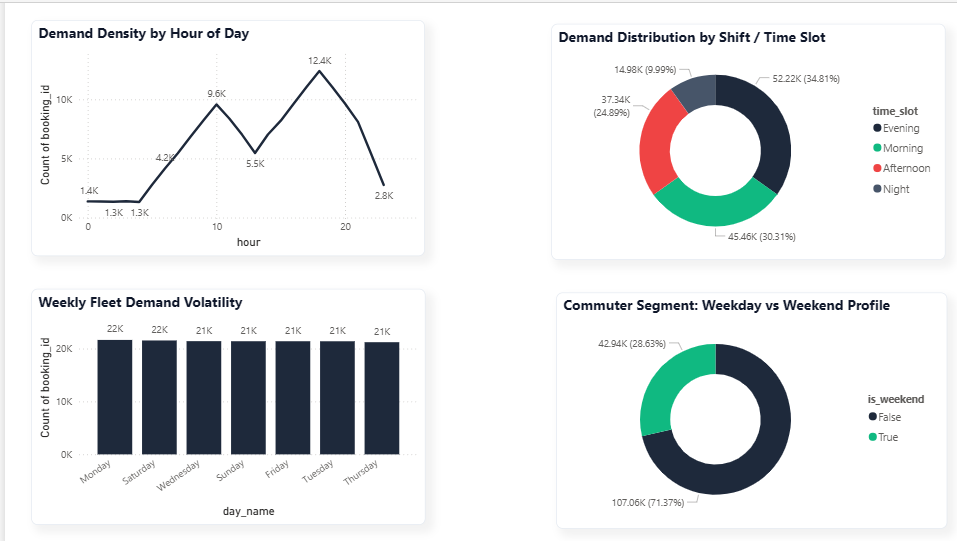

The dashboard page shown, as its layout file describes it:
{"tool":"powerbi","page":{"name":"Demand Analysis","canvas":[1280,720],"ordinal":2},"visuals":[{"type":"lineChart","title":"Demand Density by Hour of Day","fields":{"Category":["ride_hailing_cleaned.hour"],"Y":["CountNonNull(ride_hailing_cleaned.booking_id)"]},"box":[32.9,56.3,492,295],"z":0},{"type":"clusteredColumnChart","title":"Weekly Fleet Demand Volatility","fields":{"Category":["ride_hailing_cleaned.day_name"],"Y":["CountNonNull(ride_hailing_cleaned.booking_id)"]},"box":[33.5,392.7,492.6,295],"z":1000},{"type":"donutChart","title":"Demand Distribution by Shift / Time Slot","fields":{"Category":["ride_hailing_cleaned.time_slot"],"Y":["CountNonNull(ride_hailing_cleaned.booking_id)"]},"box":[682.5,60.9,492.6,295],"z":2000},{"type":"donutChart","title":"Commuter Segment: Weekday vs Weekend Profile","fields":{"Category":["ride_hailing_cleaned.is_weekend"],"Y":["CountNonNull(ride_hailing_cleaned.booking_id)"]},"box":[688.9,396.3,488.5,295],"z":3000}]}

Visuals, with their boxes in screenshot pixels (x1, y1, x2, y2), scaled from the page's 1280x720 canvas onto the 957x541 screenshot:
"Demand Density by Hour of Day" lineChart: box=[25, 42, 392, 264]
"Weekly Fleet Demand Volatility" clusteredColumnChart: box=[25, 295, 393, 517]
"Demand Distribution by Shift / Time Slot" donutChart: box=[510, 46, 879, 267]
"Commuter Segment: Weekday vs Weekend Profile" donutChart: box=[515, 298, 880, 519]
